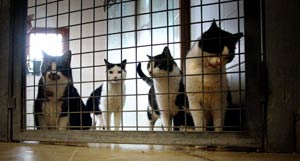cat: (185, 17, 245, 133), (32, 50, 93, 132), (136, 46, 186, 132), (85, 59, 128, 133)
